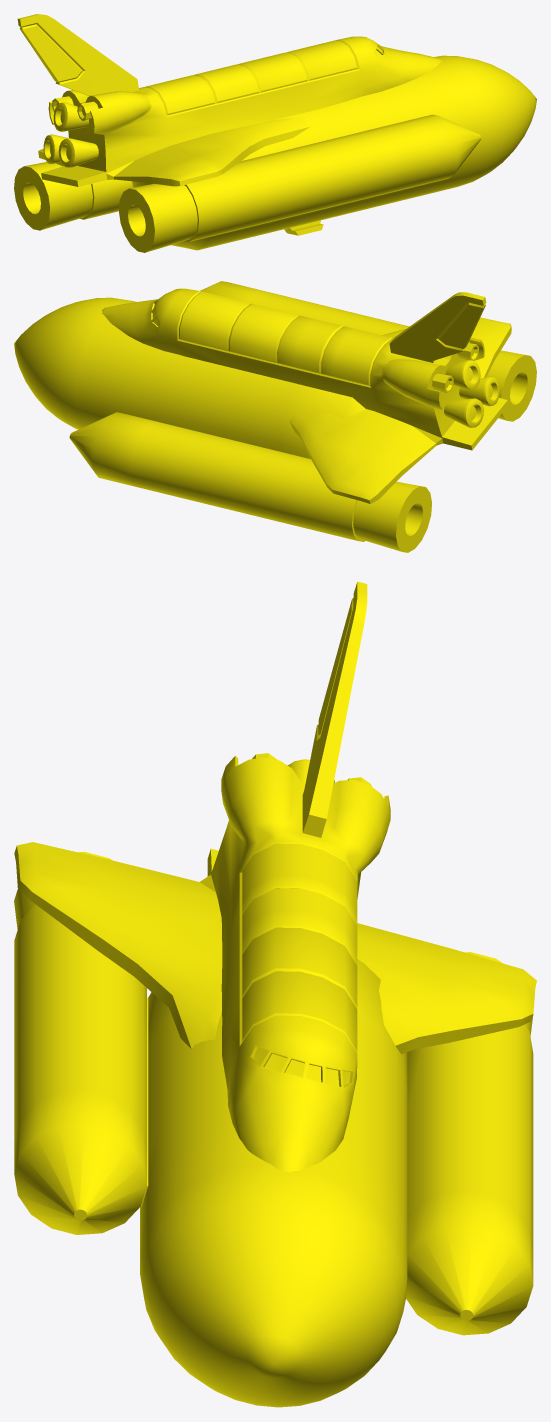
The model's file is rocket.glb.
3 renders of one model, top to bottom at view 1: azimuth 30°, elevation 25°; view 2: azimuth 150°, elevation 25°; view 3: azimuth 270°, elevation 25°, orthographic. The views are drawn at different scales.
Parts seen in each view (by area): view 1: node_id32, node_id30; view 2: node_id32, node_id30; view 3: node_id32, node_id30.
Part boxes in pixels (x1=…): node_id32: x1=14, y1=55, x2=536, y2=252; node_id30: x1=17, y1=14, x2=442, y2=186; node_id32: x1=14, y1=281, x2=536, y2=552; node_id30: x1=102, y1=288, x2=511, y2=503; node_id32: x1=14, y1=851, x2=533, y2=1407; node_id30: x1=14, y1=581, x2=536, y2=1172.
Size of the model in its own units: 0.512 by 0.25 by 0.2548.
2 materials, 2 textured.
